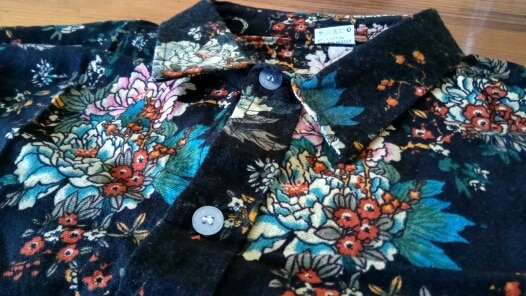shirts: (5, 2, 526, 280)
